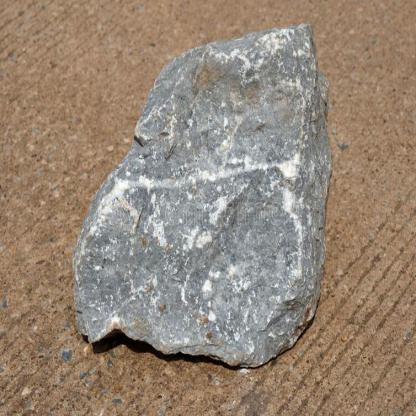Sedimentary_Limestone: (66, 19, 335, 373)
